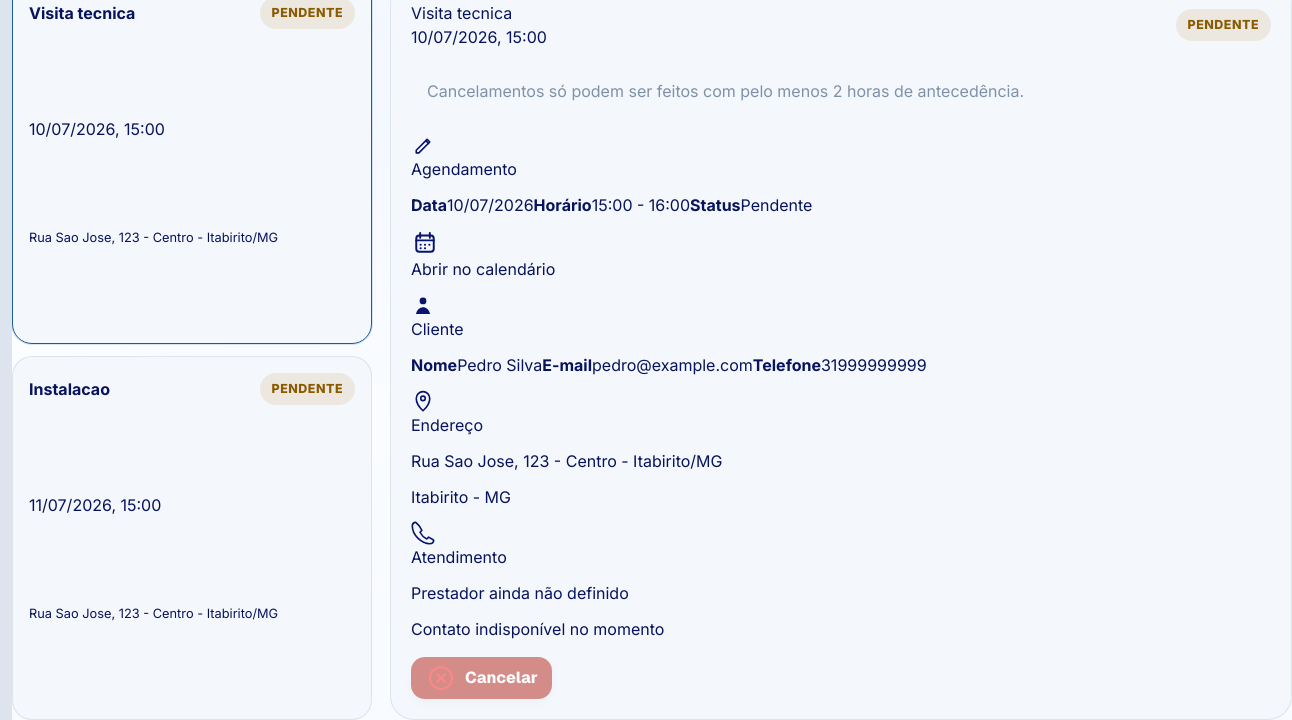
Scenario: BookingWorkspace › switches the detail pane to the selected booking while keeping the list boundary intact
This screenshot has width=1292, height=720.
(page scrolled)
expect the heading "Visita tecnica" is shown: met, box top-left (411, 3), bottom-right (512, 23)
Click the button "Instalacao" at (69, 389), box top-left (12, 356), bottom-right (372, 719)
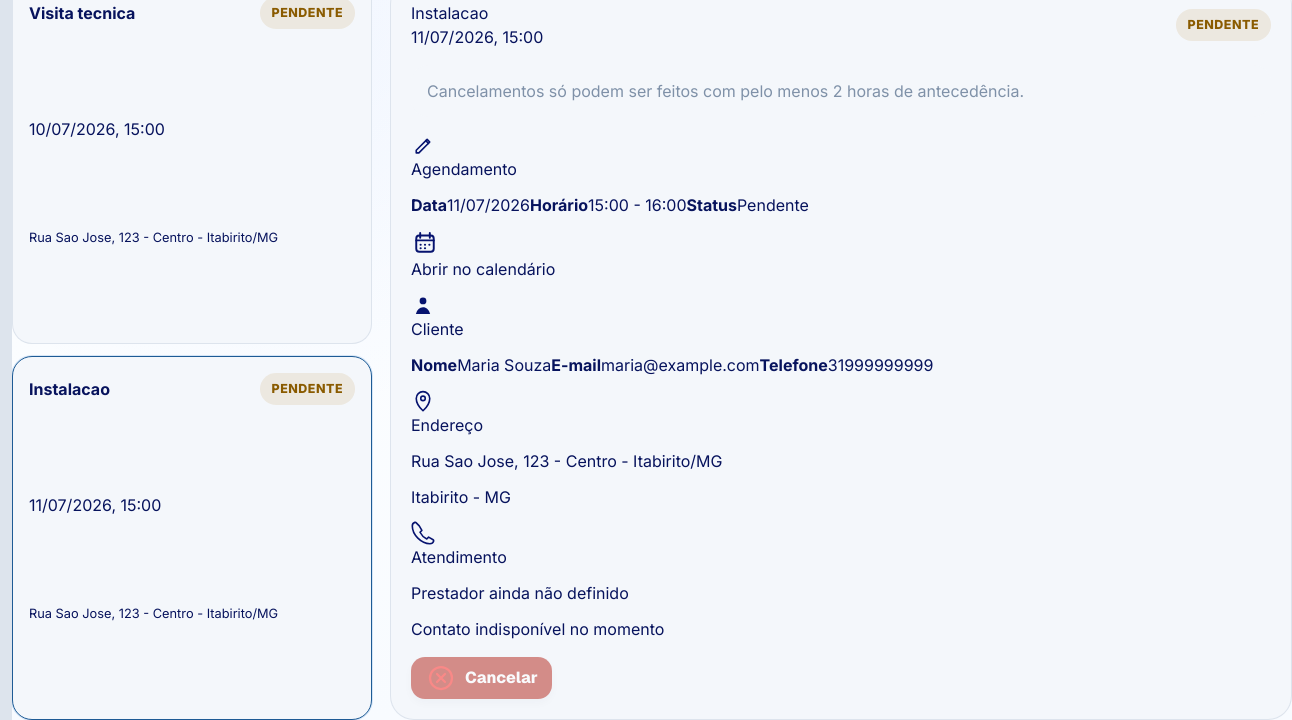
expect the heading "Instalacao" is shown: met, box top-left (411, 3), bottom-right (488, 23)
expect the text "Maria Souza" is shown: met, box top-left (457, 355), bottom-right (551, 375)
